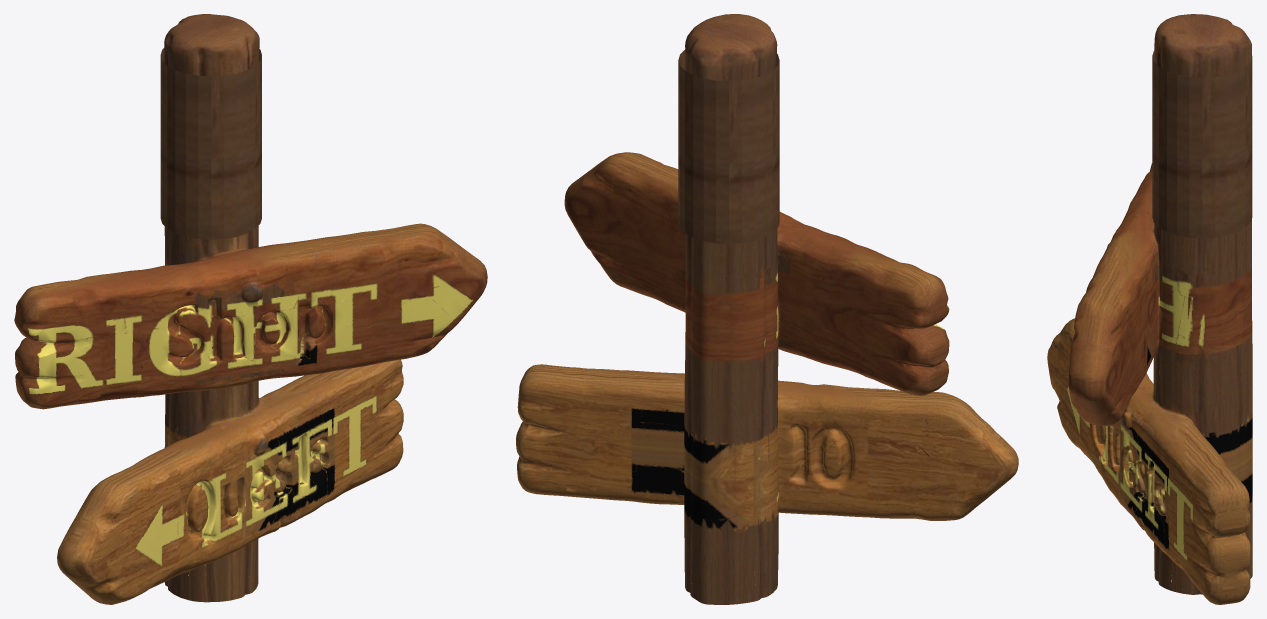
File: forksign.glb
3 renders of one model, left to right at view 1: azimuth 30°, elevation 25°; view 2: azimuth 150°, elevation 25°; view 3: azimuth 270°, elevation 25°, orthographic.
Visible parts, largest first — view 1: crossway; view 2: crossway; view 3: crossway.
Boxes of the visible parts, x1=… form: crossway: x1=14, y1=14, x2=487, y2=604; crossway: x1=516, y1=14, x2=1018, y2=604; crossway: x1=1047, y1=14, x2=1252, y2=604.
Bounding box in the file's own units: 0.854 × 1.04 × 0.3513.
Materials: 1 (1 with a texture image).
